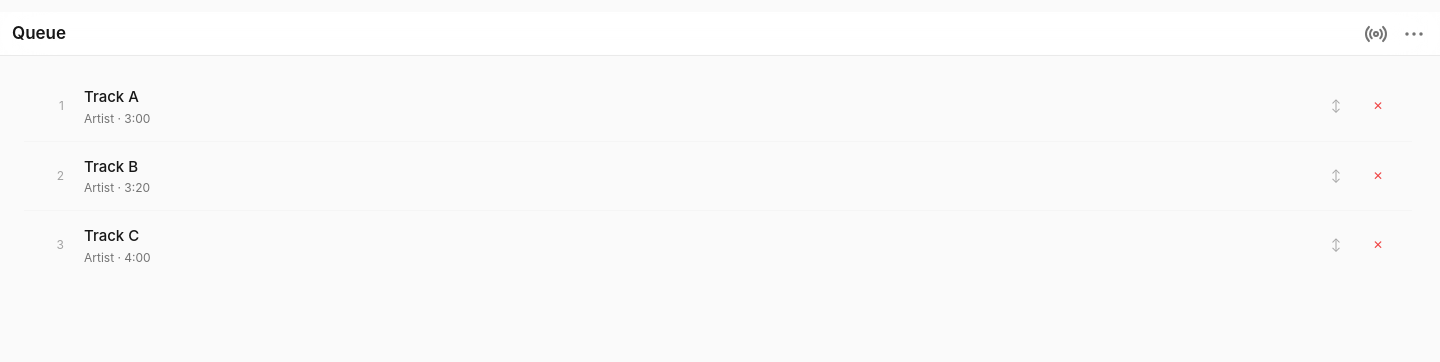
Test: QueueView › shows jump error notification when jumpToTrack fails
Click the button with test id "queue-track-jump" showing "Track A Artist · 3:00" at (111, 96), box [76, 80, 1306, 132]
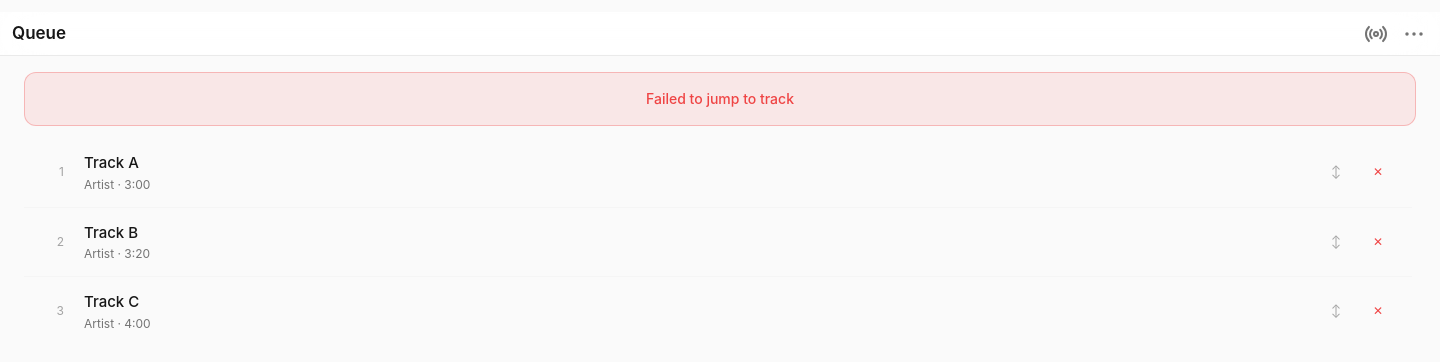
Expected: the number of list items with test id "queue-track" is 3, [24, 138, 1412, 208]; [24, 208, 1412, 277]; [24, 277, 1412, 346]
Now the message "Failed to jump to track" is shown, box [24, 72, 1416, 126]
Now the message with test id "queue-jump-error" reads "Failed to jump to track", box [646, 90, 794, 107]
